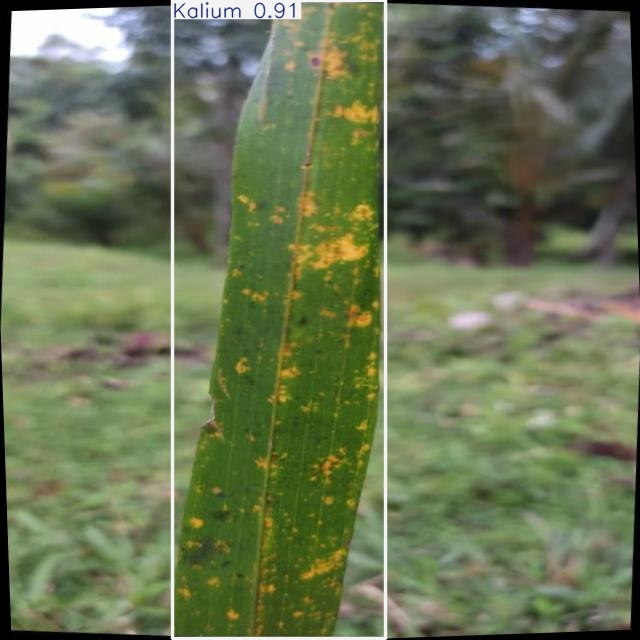Kalium: (173, 1, 385, 639)
